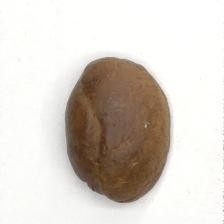NG: (78, 79, 113, 168)
